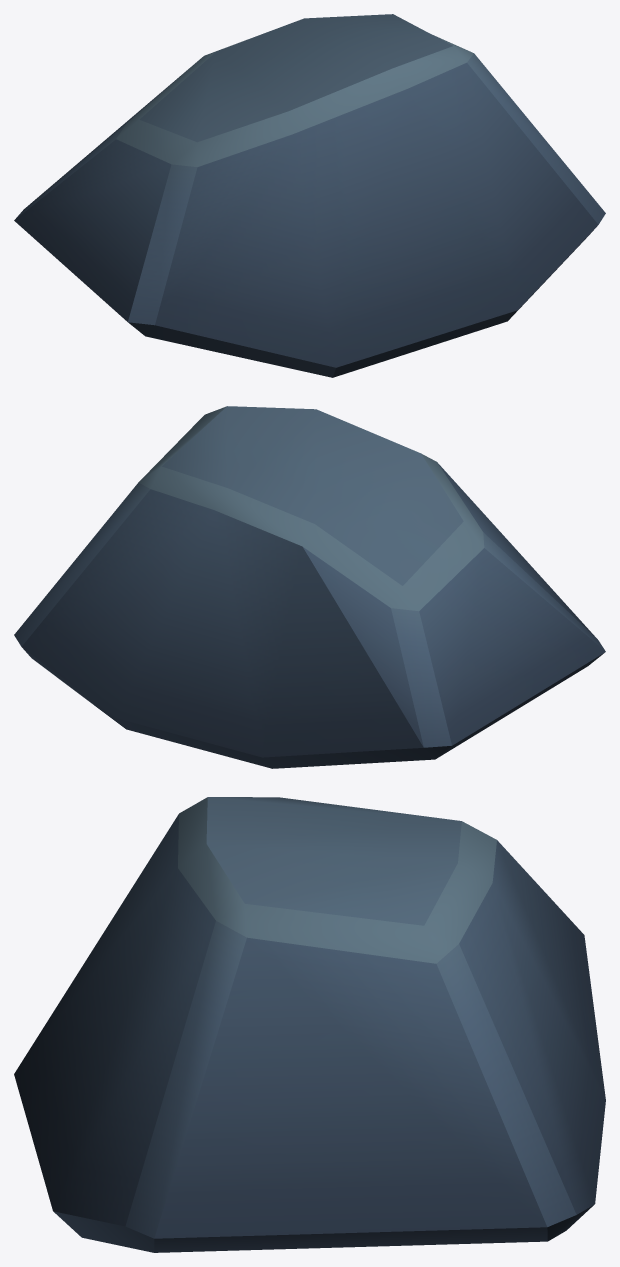
The model's file is rock_small_1.glb.
3 renders of one model, top to bottom at view 1: azimuth 30°, elevation 25°; view 2: azimuth 150°, elevation 25°; view 3: azimuth 270°, elevation 25°, orthographic. The views are drawn at different scales.
Visible parts, largest first — view 1: rock_small_1; view 2: rock_small_1; view 3: rock_small_1.
Boxes of the visible parts, left/top/right/bottom form: rock_small_1: left=14, top=14, right=605, bottom=377; rock_small_1: left=14, top=406, right=605, bottom=768; rock_small_1: left=14, top=797, right=605, bottom=1252.
Bounding box in the file's own units: 2.05 × 0.9953 × 1.56.
Materials: 1 (1 with a texture image).
